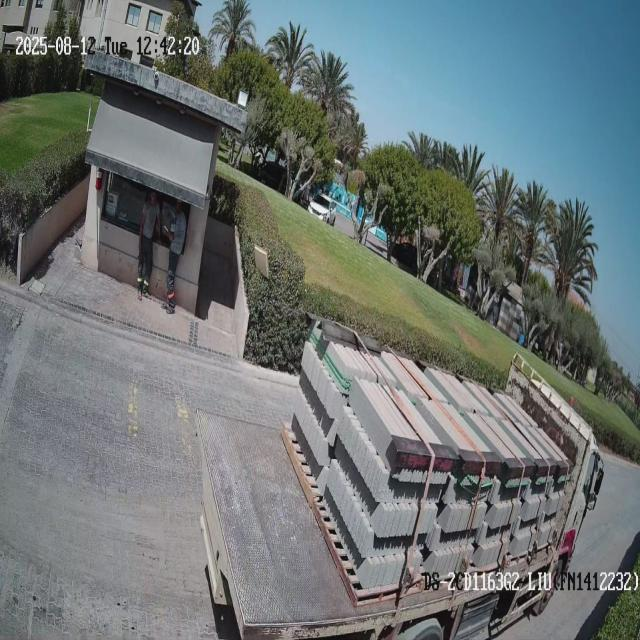bricks: (293, 342, 569, 588)
